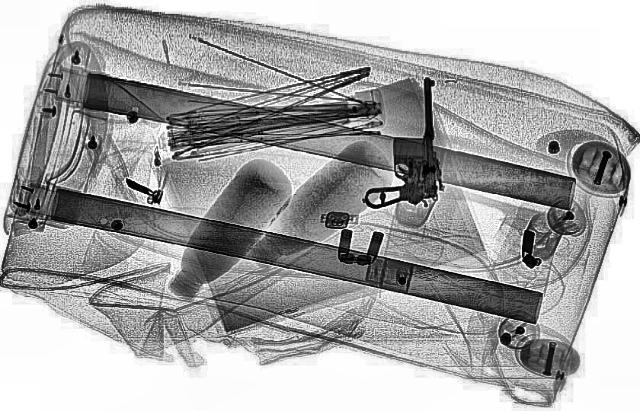Gun: (357, 76, 445, 208)
